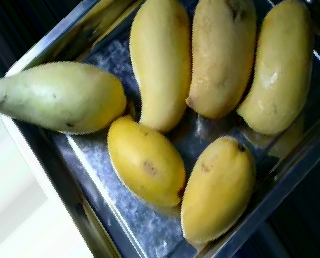Mango: (237, 0, 312, 133), (0, 60, 125, 135), (177, 135, 256, 241), (185, 1, 257, 116), (129, 0, 191, 132), (107, 116, 186, 205)
